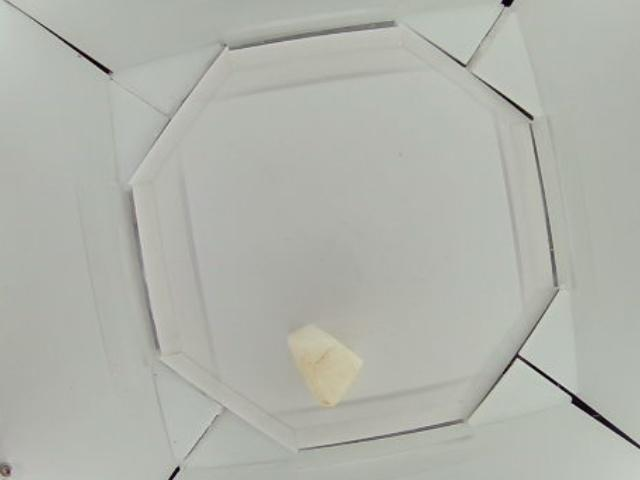Mooli: (285, 323, 360, 412)
